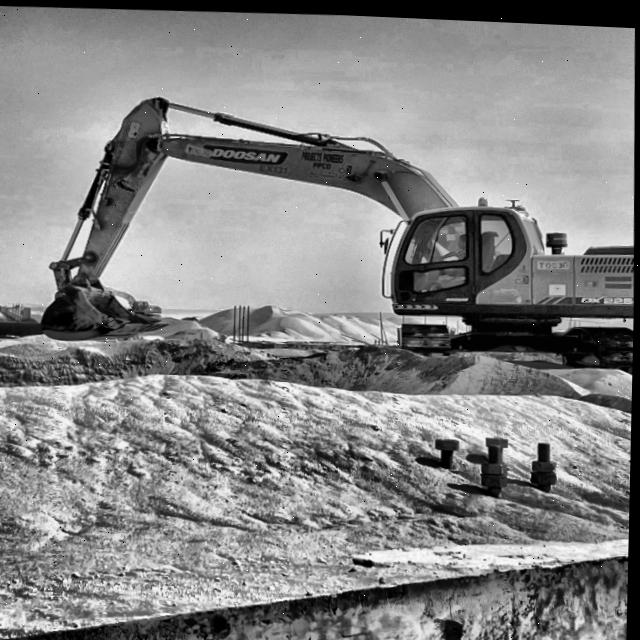excavator: (36, 77, 639, 384)
